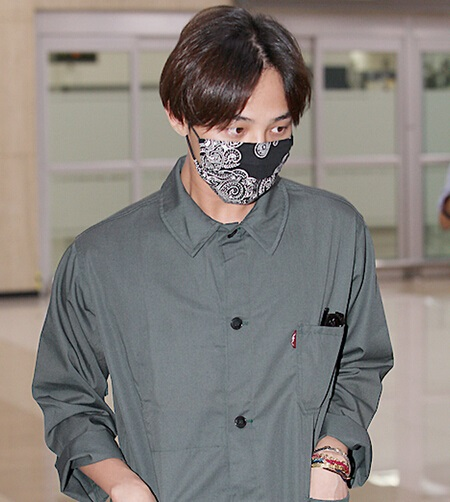face_mask: (196, 64, 292, 201)
